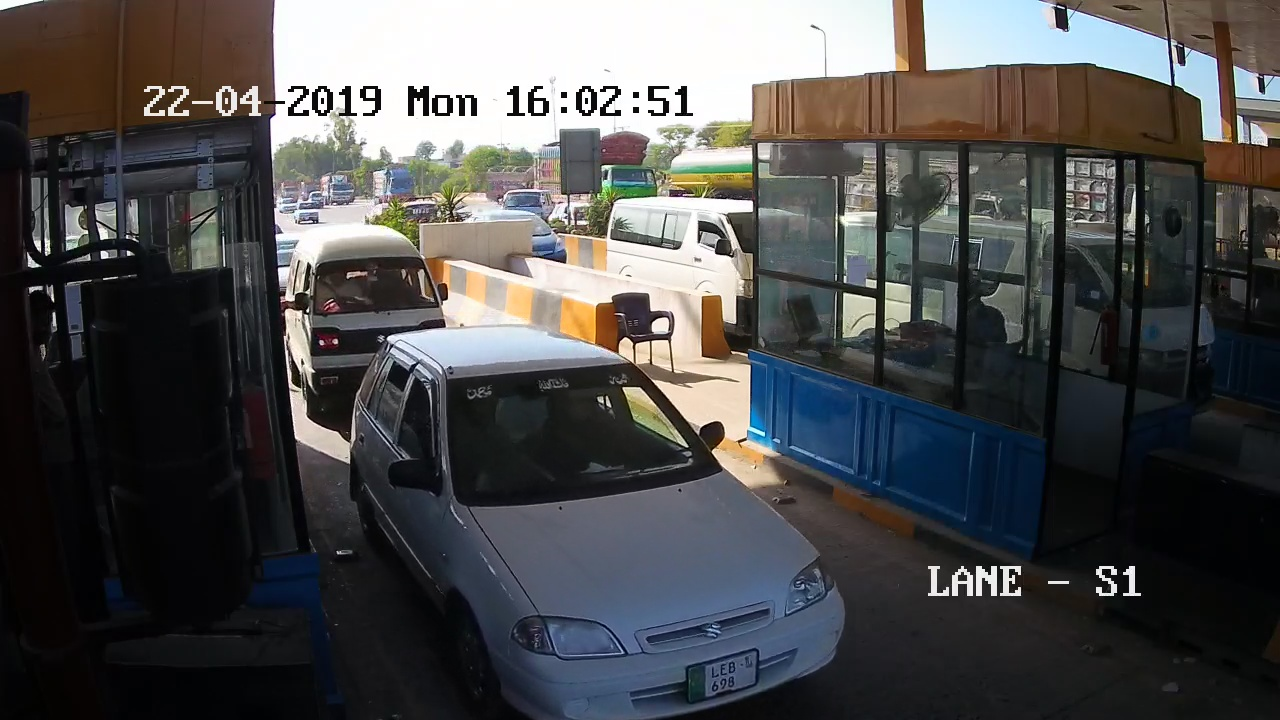car: (343, 337, 892, 720)
